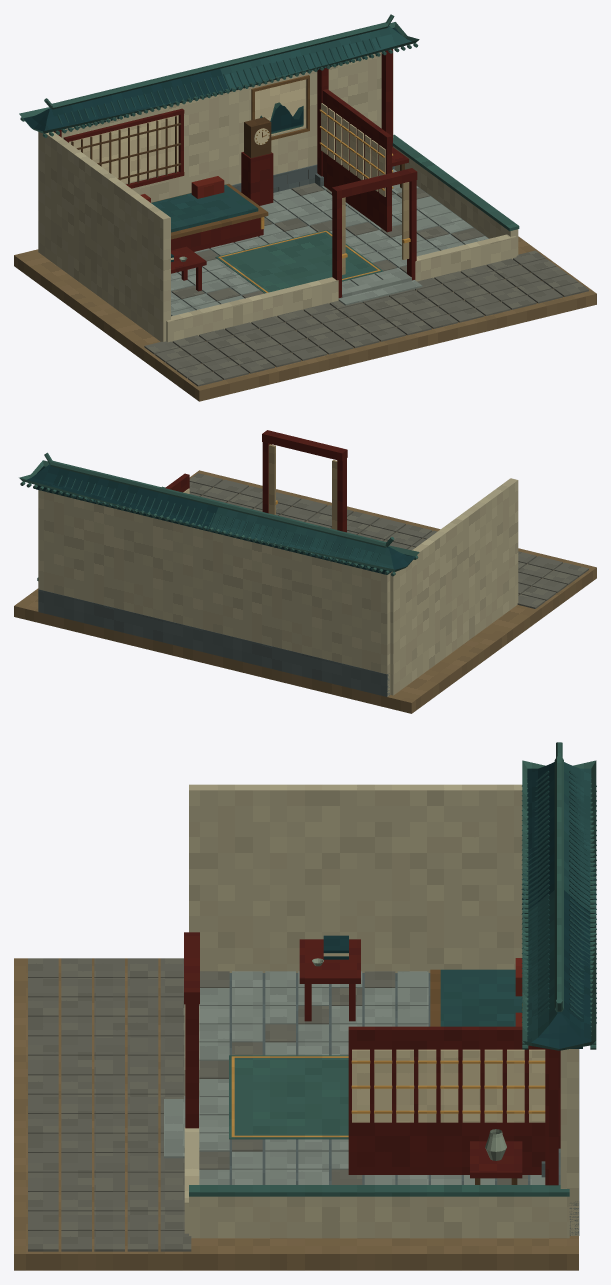
The model's file is fengjie-room.glb.
3 renders of one model, top to bottom at view 1: azimuth 30°, elevation 25°; view 2: azimuth 150°, elevation 25°; view 3: azimuth 270°, elevation 25°, orthographic. The views are drawn at different scales.
Visible parts, largest first — view 1: Left_wall, Boundary_wall, Ground, Rear_eave, Woven_mat, Front_cutaway, East_partition, Window_paper, Front_cutaway.001, Kang_cushion, Tile_ridge, Right_cutaway (+19 smaller); view 2: Boundary_wall, Left_wall, Ground, Rear_eave, Wall_stone_dado, Tile_ridge, Door_lintel, Door_jamb, Wall_cap, Tied_curtain.001, Door_jamb.001, Tied_curtain; view 3: Left_wall, Ground, Right_cutaway, East_partition, Rear_eave, Woven_mat, Right_cap, Kang_cushion, Boundary_wall, Tile_ridge, Room_plinth, Side_desk (+15 smaller).
Part boxes in pixels (x1,y1,x2,y2): Left_wall: (38, 131, 170, 341); Boundary_wall: (61, 49, 393, 202); Ground: (14, 236, 596, 401); Rear_eave: (19, 22, 419, 133); Woven_mat: (215, 230, 383, 293); Front_cutaway: (166, 277, 338, 342); East_partition: (322, 89, 391, 232); Window_paper: (69, 115, 178, 183); Front_cutaway.001: (414, 234, 516, 281); Kang_cushion: (151, 184, 258, 232); Tile_ridge: (52, 22, 388, 109); Right_cutaway: (393, 146, 518, 255); Boundary_wall: (38, 490, 390, 696); Left_wall: (390, 478, 518, 695); Ground: (14, 470, 596, 713); Rear_eave: (19, 460, 419, 571); Wall_stone_dado: (38, 589, 389, 696); Tile_ridge: (50, 461, 386, 547); Door_lintel: (262, 430, 347, 461); Door_jamb: (337, 458, 346, 532); Wall_cap: (36, 485, 391, 574); Tied_curtain.001: (268, 444, 275, 514); Door_jamb.001: (262, 442, 271, 513); Tied_curtain: (332, 460, 337, 529); Left_wall: (189, 784, 522, 972); Ground: (14, 958, 578, 1270); Right_cutaway: (189, 1196, 569, 1238); East_partition: (348, 1026, 560, 1174); Rear_eave: (522, 760, 596, 1050); Woven_mat: (229, 1055, 348, 1139); Right_cap: (189, 1185, 569, 1196); Kang_cushion: (440, 969, 522, 1026); Boundary_wall: (560, 1049, 578, 1235); Tile_ridge: (554, 756, 563, 1011); Room_plinth: (229, 973, 530, 1184); Side_desk: (299, 939, 360, 983).
Size of the model in its own units: 11.4 by 4.54 by 9.49.
18 materials, 18 textured.
